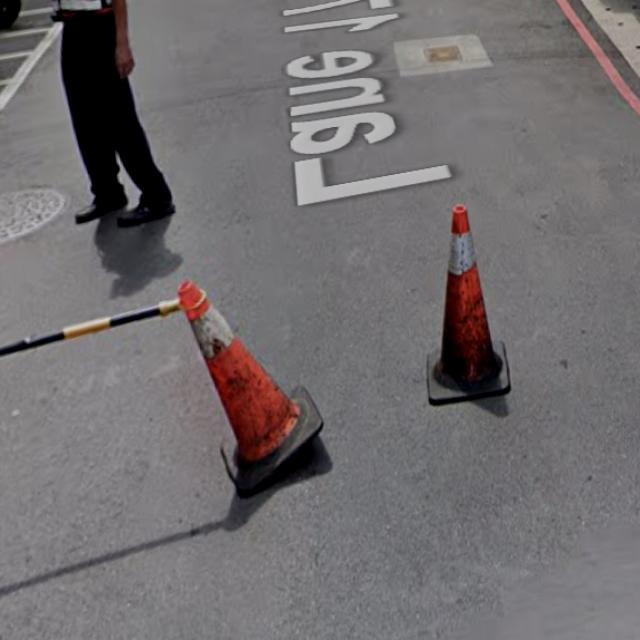cone: (176, 270, 340, 500), (418, 194, 514, 409)
